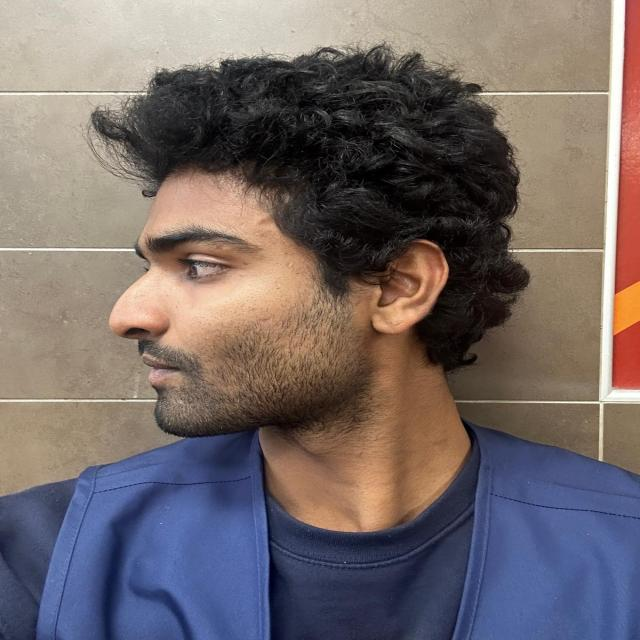nocap: (72, 51, 558, 258)
